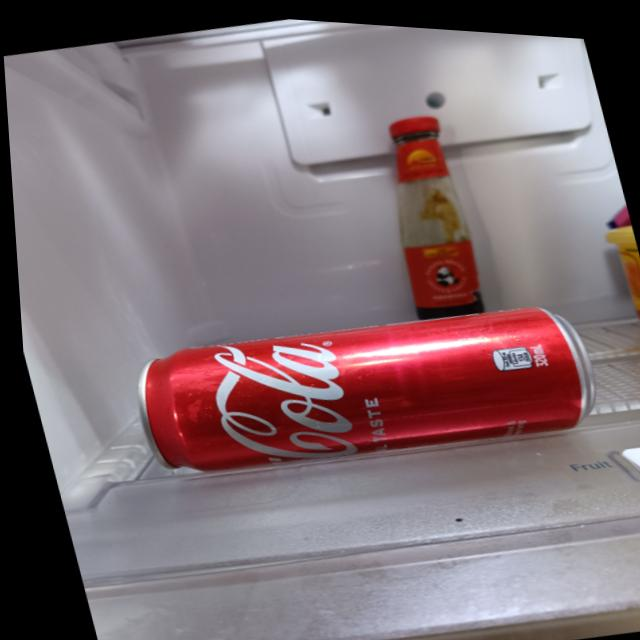coke: (116, 264, 607, 508)
